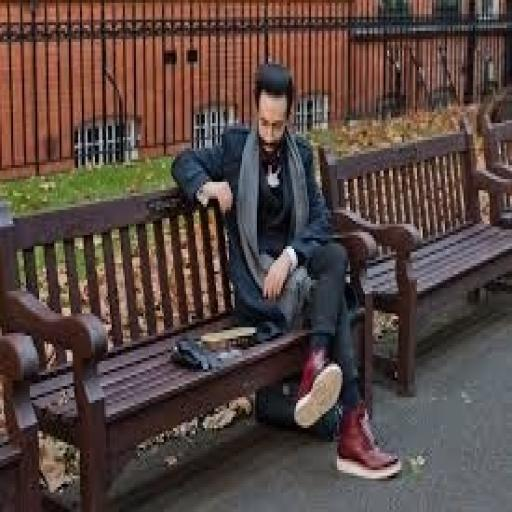sitting: (169, 56, 404, 481)
